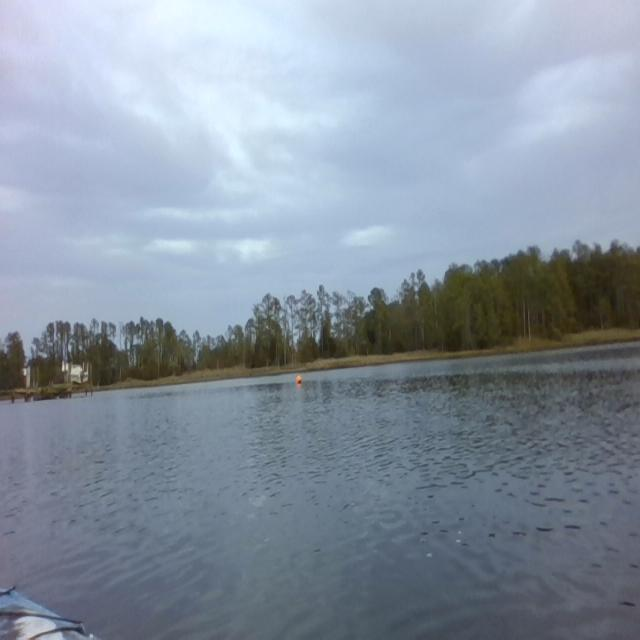Buoy: (295, 372, 303, 386)
